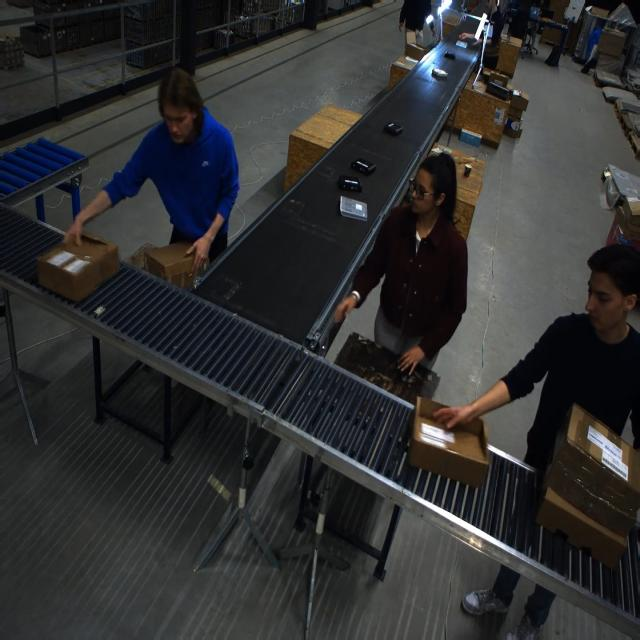box: (534, 403, 640, 566), (410, 397, 487, 489), (35, 231, 119, 302), (143, 241, 207, 289), (496, 36, 520, 78), (404, 41, 430, 64), (507, 87, 528, 114)
product: (340, 195, 368, 220), (337, 174, 362, 193), (351, 158, 377, 175), (382, 122, 402, 136), (431, 68, 448, 78), (444, 51, 456, 59)
